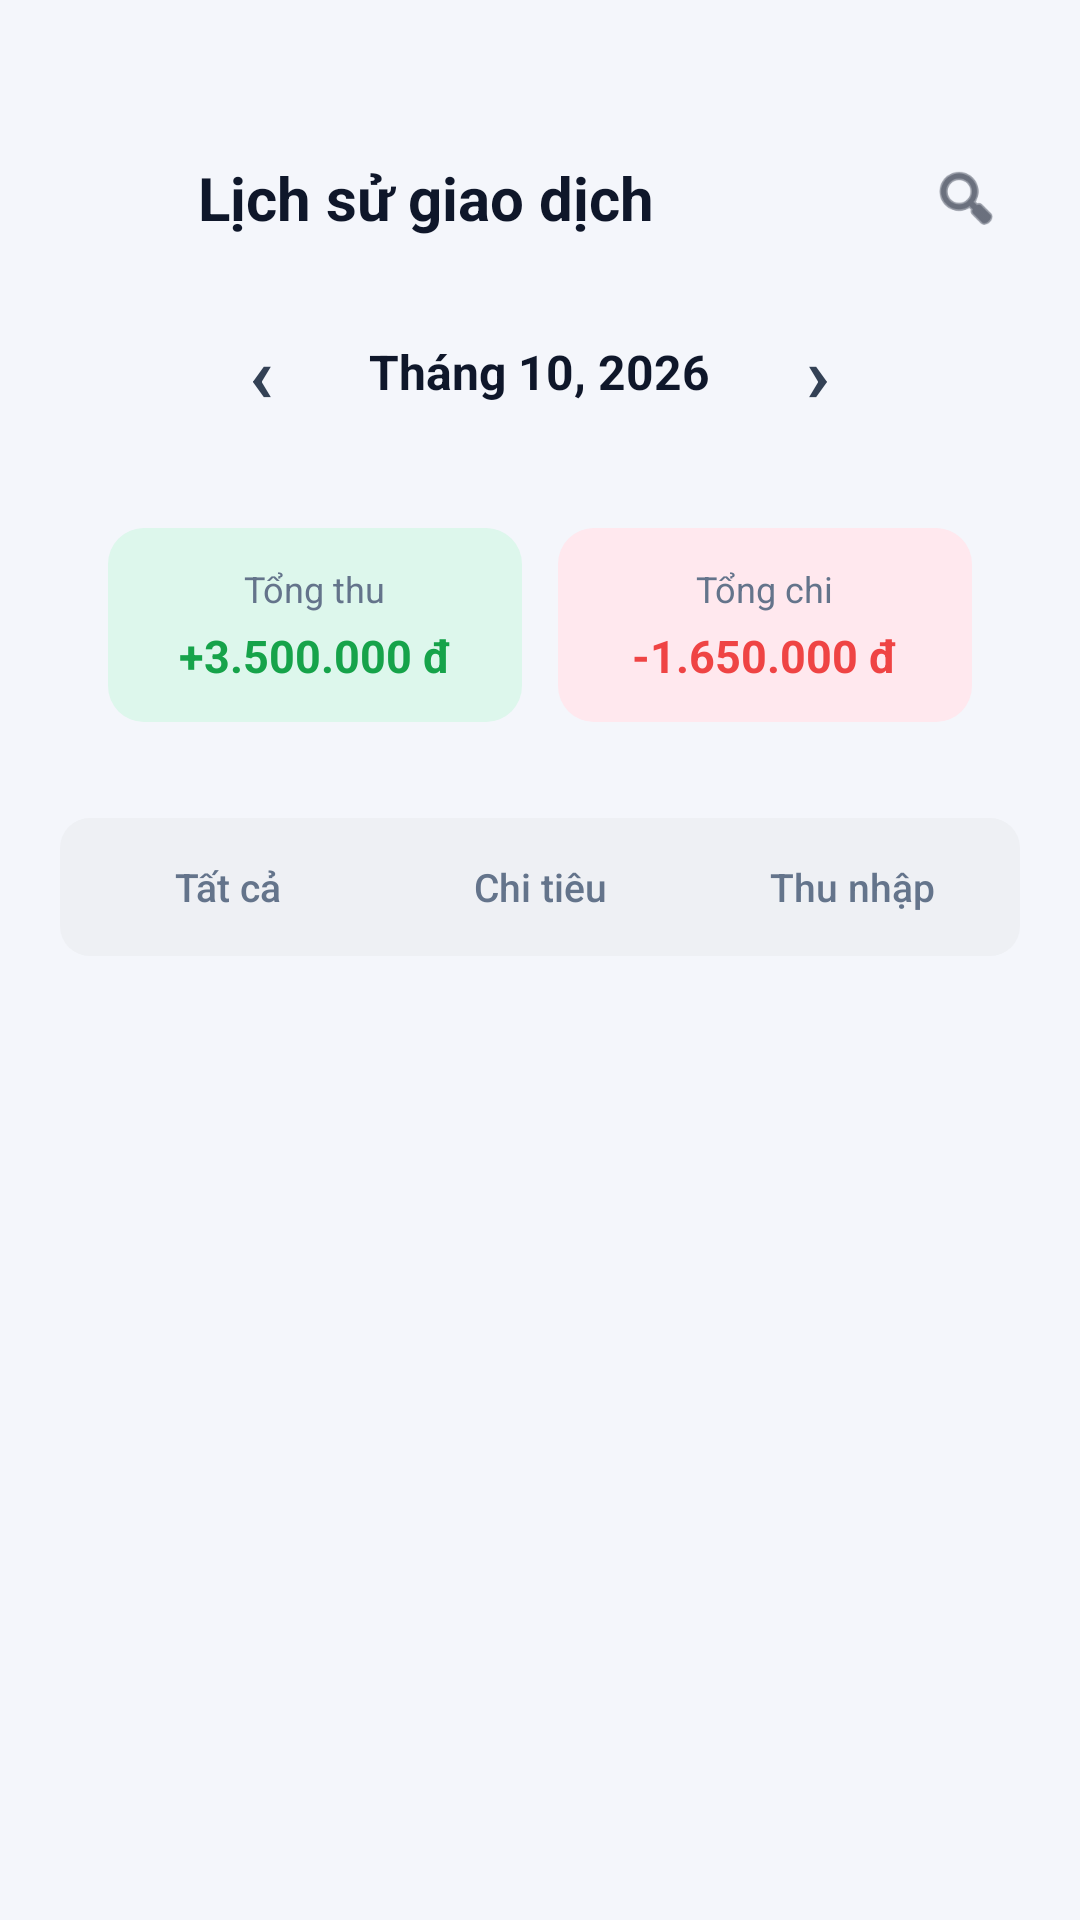

Icons on this 1080px x 1920px Android screen, each with the point to tap as [x,y]:
search: [966,198]
